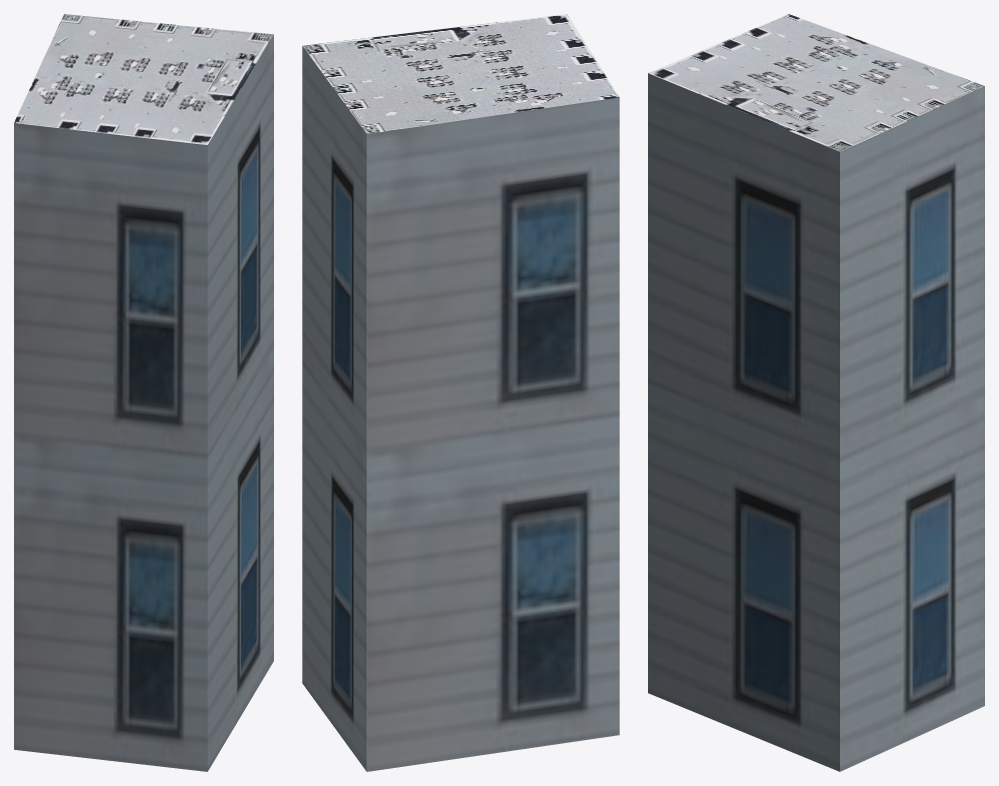
File: ResTex__4244.fbx
3 renders of one model, left to right at view 1: azimuth 30°, elevation 25°; view 2: azimuth 150°, elevation 25°; view 3: azimuth 270°, elevation 25°, orthographic. The views are drawn at different scales.
Parts seen in each view (by area): view 1: CityEngineMaterial_18_m, CityEngineMaterial_2_m; view 2: CityEngineMaterial_18_m, CityEngineMaterial_2_m; view 3: CityEngineMaterial_18_m, CityEngineMaterial_2_m.
Boxes of the visible parts, x1,y1,x2,y2 form: CityEngineMaterial_18_m: [14, 35, 273, 771]; CityEngineMaterial_2_m: [14, 14, 273, 144]; CityEngineMaterial_18_m: [302, 46, 619, 771]; CityEngineMaterial_2_m: [302, 14, 618, 133]; CityEngineMaterial_18_m: [648, 73, 984, 771]; CityEngineMaterial_2_m: [648, 14, 984, 151].
Size of the model in its own units: 2.86 by 6 by 2.96.
2 materials, 2 textured.
